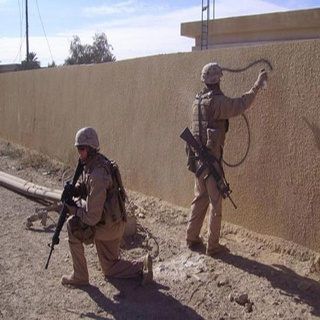rifle: (43, 154, 94, 270), (177, 126, 244, 212)
